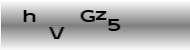5: (107, 17, 121, 31)
G: (79, 9, 96, 23)
V: (48, 25, 65, 39)
h: (21, 8, 37, 23)
z: (95, 10, 108, 21)
